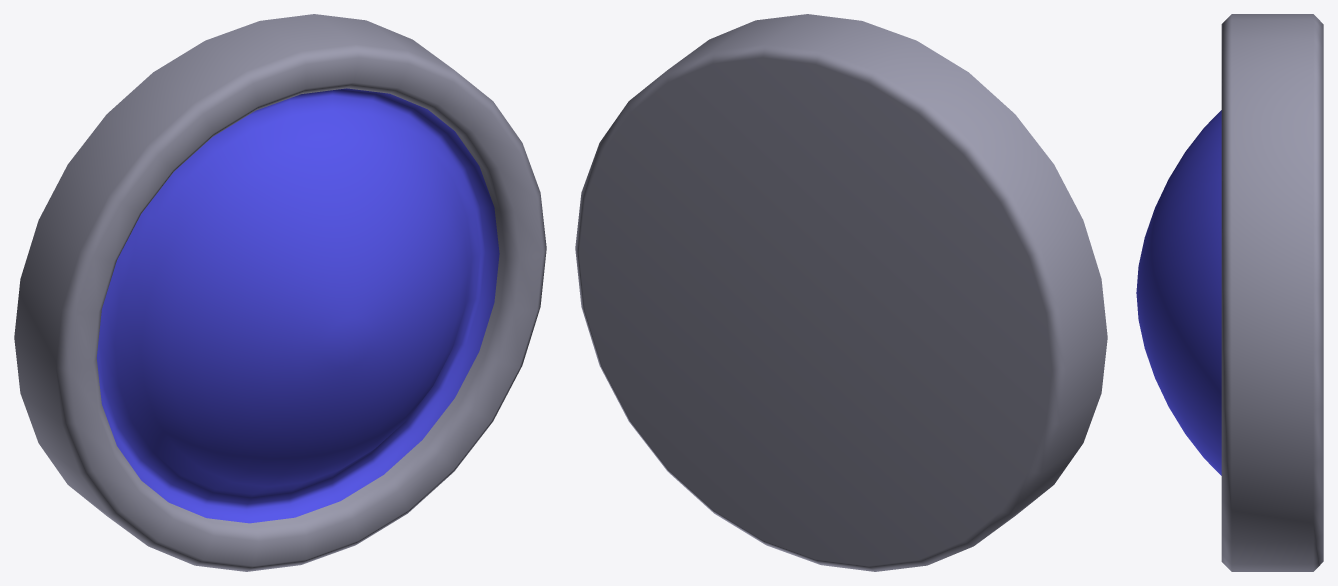
The model's file is SM_Window_02.fbx.
3 renders of one model, left to right at view 1: azimuth 30°, elevation 25°; view 2: azimuth 150°, elevation 25°; view 3: azimuth 270°, elevation 25°, orthographic.
Visible parts, largest first — view 1: Window_02.003; view 2: Window_02.003; view 3: Window_02.003.
Boxes of the visible parts, x1,y1,x2,y2 form: Window_02.003: (14, 14, 546, 571); Window_02.003: (575, 14, 1107, 571); Window_02.003: (1136, 14, 1323, 571).
Bounding box in the file's own units: 271 × 271 × 90.9.
